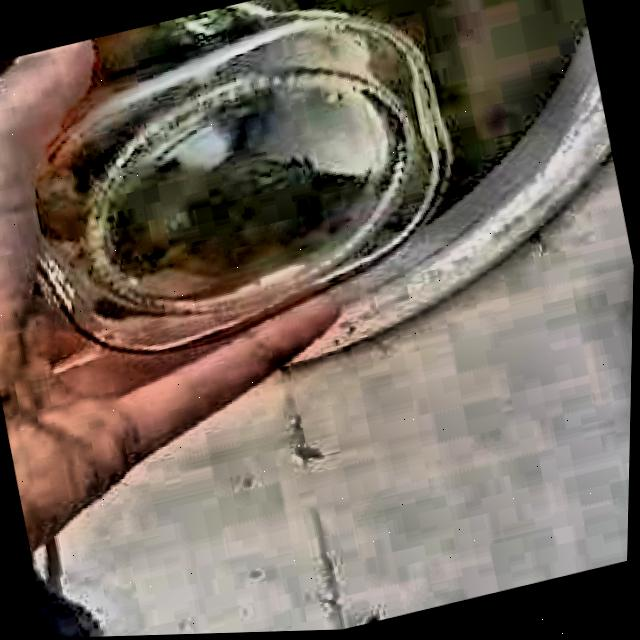glass: (34, 3, 451, 355)
